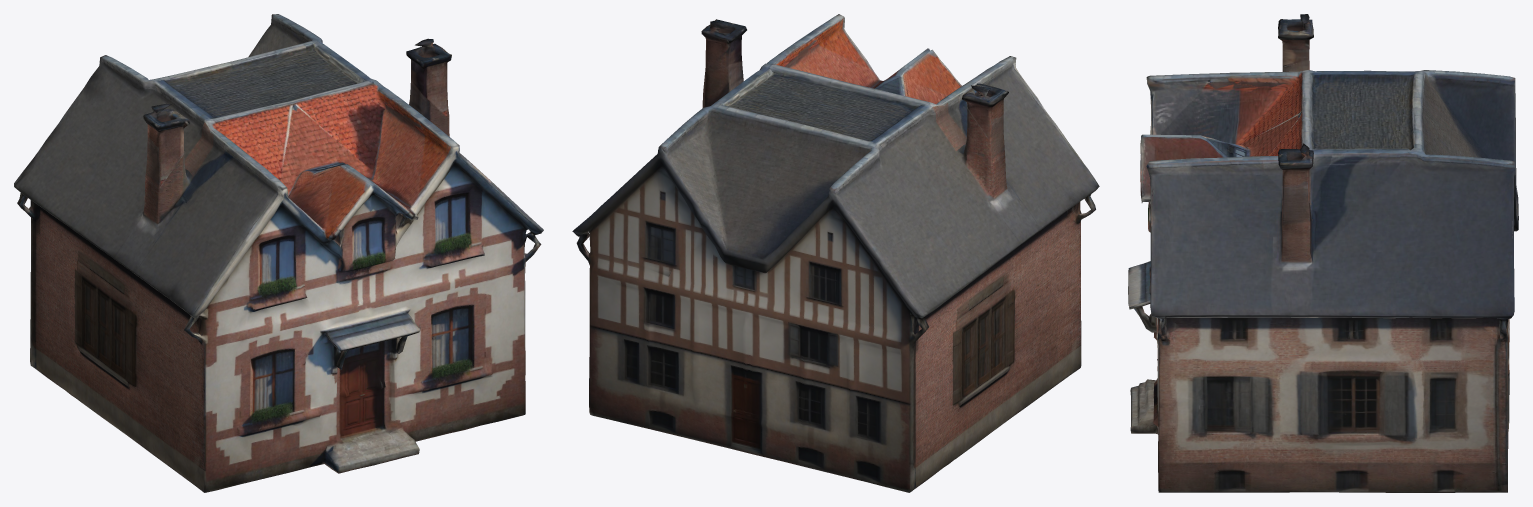
Rendered from MaastrichtHouse002.glb.
3 renders of one model, left to right at view 1: azimuth 30°, elevation 25°; view 2: azimuth 150°, elevation 25°; view 3: azimuth 270°, elevation 25°, orthographic.
Visible parts, largest first — view 1: MaastrichtHouse002; view 2: MaastrichtHouse002; view 3: MaastrichtHouse002.
Part boxes in pixels (<box>): MaastrichtHouse002: <box>14,14,543,492</box>; MaastrichtHouse002: <box>572,14,1099,492</box>; MaastrichtHouse002: <box>1128,14,1518,492</box>.
Bounding box in the file's own units: 2.01 × 1.77 × 1.89.
1 material, 1 textured.
